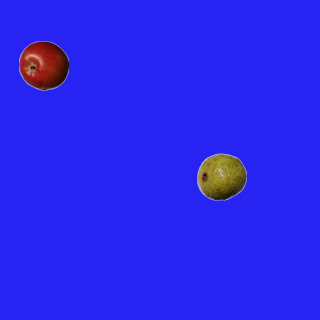Apple Braeburn: (18, 40, 68, 90)
Guava: (196, 151, 246, 201)
